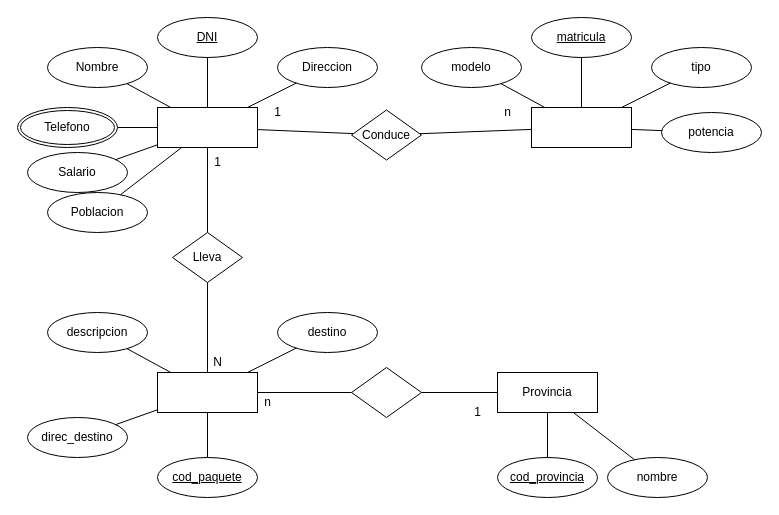
Some shapes in this 779 by 515 pixel diagram are drawn without their labels. The centre of each missing label's shape, as x and y in pixels:
Camion: the point at 581,127
Camioneros: the point at 207,127
Paquetes: the point at 207,392
Va a: the point at 386,392
